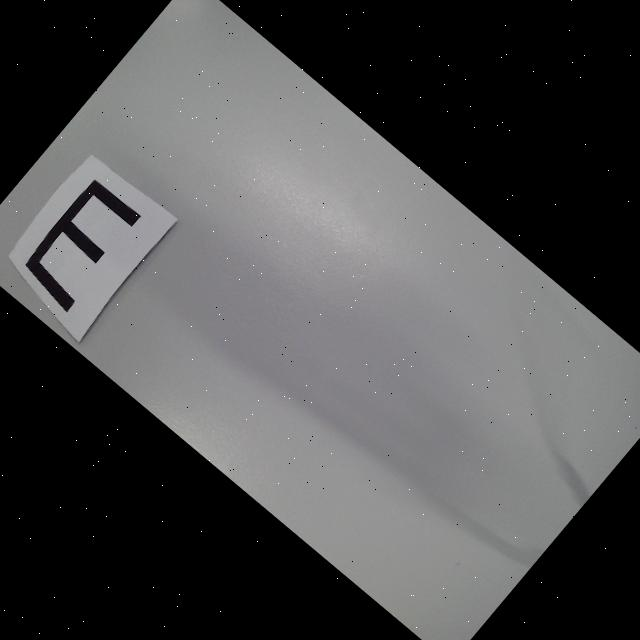FAKE: (16, 176, 146, 313)
